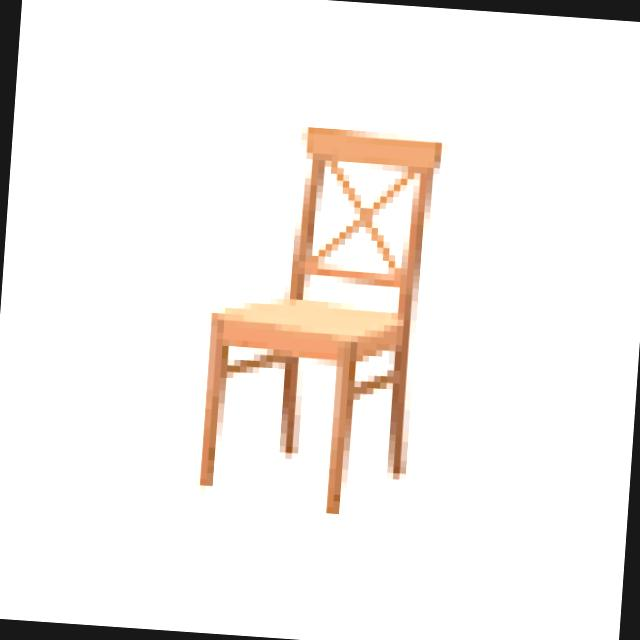obstacle: (137, 67, 501, 564)
